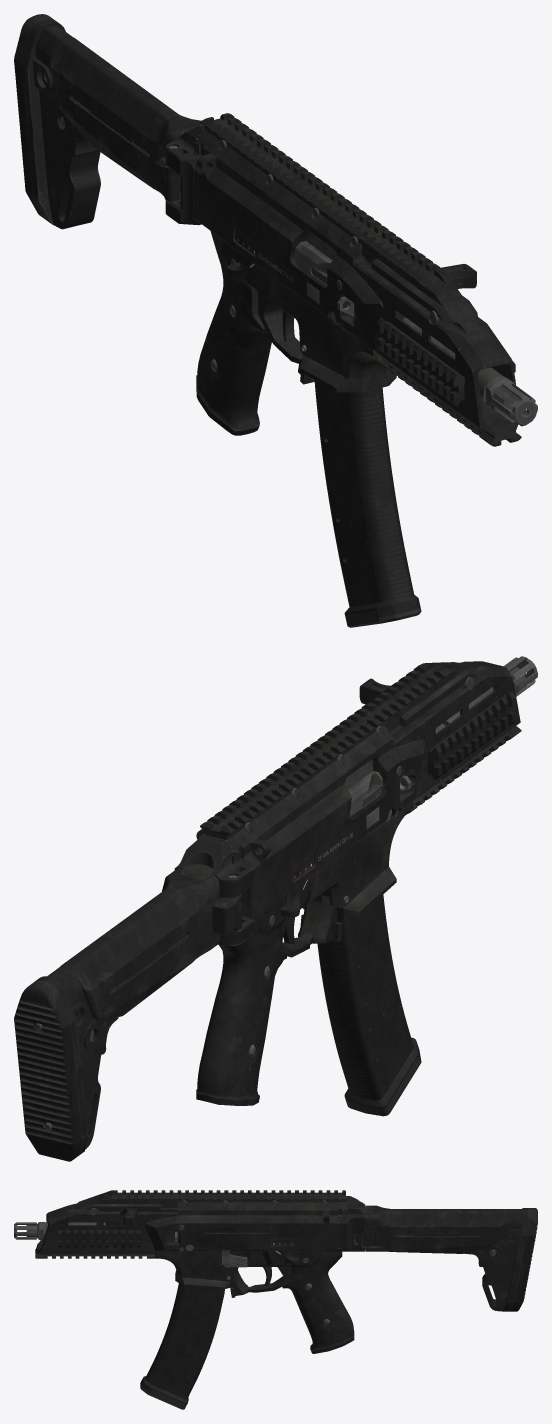
The picture shows the model from 3 angles, top to bottom: view 1: azimuth 30°, elevation 25°; view 2: azimuth 150°, elevation 25°; view 3: azimuth 270°, elevation 25°; orthographic projection. The views are drawn at different scales.
Visible parts, largest first — view 1: cz_main_low_poly_Main body_0__misc, stock_2_01_low.001, cz_main_low_poly_Main body_0, mag_1_low, pistol_01_low.001, stock_2_04_low.001, cz_shutter_low_poly; view 2: cz_main_low_poly_Main body_0__misc, stock_2_01_low.001, cz_main_low_poly_Main body_0, mag_1_low, pistol_01_low.001, stock_2_04_low.001, cz_shutter_low_poly; view 3: cz_main_low_poly_Main body_0__misc, stock_2_01_low.001, cz_main_low_poly_Main body_0, mag_1_low, pistol_01_low.001, stock_2_04_low.001, cz_shutter_low_poly.
Part boxes in pixels (<box>): cz_main_low_poly_Main body_0__misc: <box>193,113,537,446</box>; stock_2_01_low.001: <box>14,14,202,229</box>; cz_main_low_poly_Main body_0: <box>193,118,537,443</box>; mag_1_low: <box>314,380,421,627</box>; pistol_01_low.001: <box>196,231,282,435</box>; stock_2_04_low.001: <box>165,124,203,225</box>; cz_shutter_low_poly: <box>294,230,476,288</box>; cz_main_low_poly_Main body_0__misc: <box>196,656,537,957</box>; stock_2_01_low.001: <box>14,867,241,1161</box>; cz_main_low_poly_Main body_0: <box>211,660,534,917</box>; mag_1_low: <box>317,895,421,1116</box>; pistol_01_low.001: <box>196,894,287,1105</box>; stock_2_04_low.001: <box>174,834,254,945</box>; cz_shutter_low_poly: <box>344,678,391,817</box>; cz_main_low_poly_Main body_0__misc: <box>14,1190,347,1297</box>; stock_2_01_low.001: <box>356,1205,537,1311</box>; cz_main_low_poly_Main body_0: <box>14,1192,345,1257</box>; mag_1_low: <box>140,1283,224,1409</box>; pistol_01_low.001: <box>282,1251,354,1353</box>; stock_2_04_low.001: <box>338,1196,373,1251</box>; cz_shutter_low_poly: <box>99,1208,177,1224</box>.
Size of the model in its own units: 0.0756 by 0.311 by 0.6949.
Materials: 3 (3 with a texture image).
